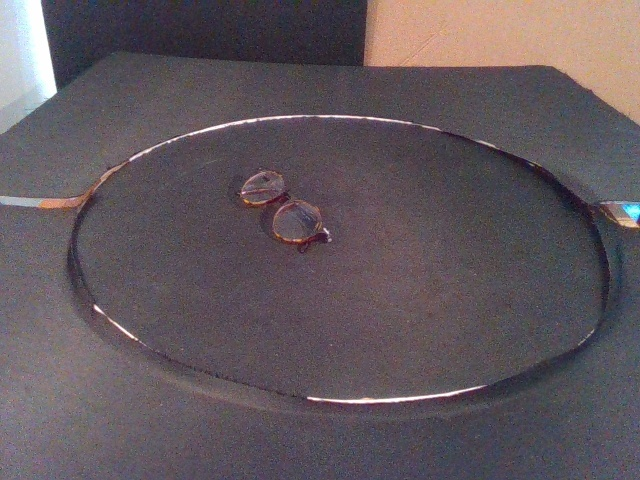glasses: (235, 164, 333, 255)
